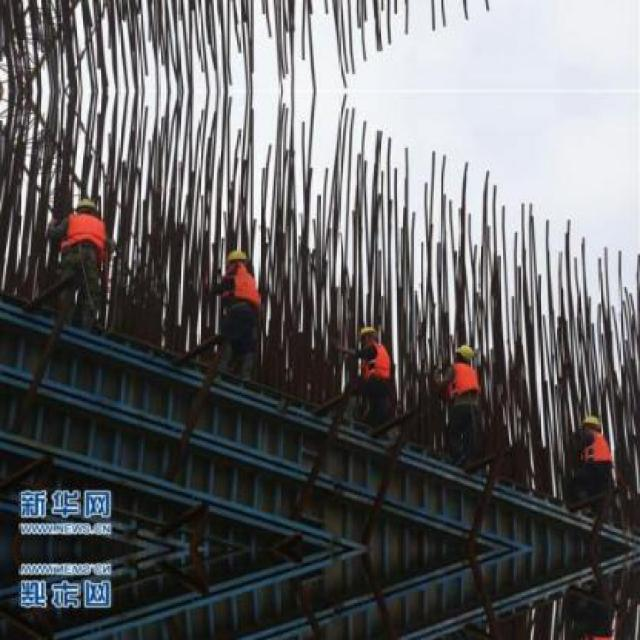helmet: (224, 248, 250, 272), (450, 342, 476, 366), (75, 195, 97, 217), (578, 414, 600, 436), (357, 324, 375, 347)
